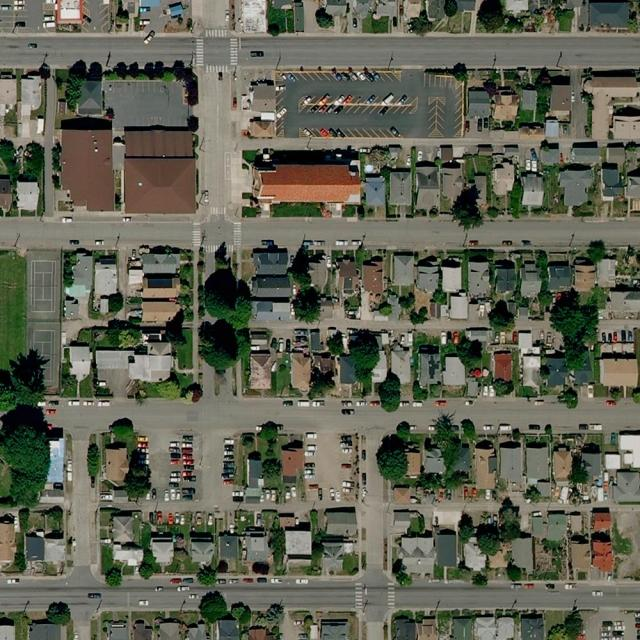building: (123, 126, 197, 214), (93, 339, 178, 399), (61, 116, 114, 212), (259, 165, 361, 204), (584, 76, 640, 140), (518, 328, 568, 393), (251, 245, 292, 321), (372, 331, 413, 384), (419, 345, 466, 386), (291, 329, 335, 372), (112, 515, 144, 566), (0, 175, 40, 214), (399, 536, 436, 576), (249, 330, 273, 390), (577, 440, 610, 479), (548, 74, 574, 121), (416, 161, 440, 211), (25, 532, 65, 562), (475, 440, 498, 489), (460, 535, 489, 573), (589, 1, 629, 28), (600, 359, 638, 387), (324, 506, 358, 537), (499, 441, 523, 484), (142, 273, 180, 300), (441, 160, 464, 204), (467, 255, 490, 298), (249, 78, 277, 113), (492, 89, 520, 124), (17, 102, 44, 138), (612, 105, 640, 139), (518, 259, 542, 298), (510, 535, 534, 574), (245, 526, 270, 563), (285, 522, 312, 556), (142, 299, 180, 323), (77, 81, 103, 116), (104, 447, 129, 483), (361, 256, 384, 295), (321, 537, 344, 576), (94, 262, 119, 297), (307, 253, 330, 291), (290, 352, 311, 393), (436, 529, 458, 567), (547, 260, 573, 292), (47, 437, 65, 483), (526, 444, 549, 480), (72, 252, 93, 291), (141, 253, 180, 274), (190, 531, 214, 565), (389, 169, 411, 206), (552, 444, 574, 481), (492, 161, 515, 196), (521, 172, 544, 207), (601, 162, 623, 198), (152, 532, 174, 568), (0, 514, 16, 563), (282, 449, 305, 483), (418, 256, 439, 293), (69, 345, 90, 381), (441, 257, 462, 293), (574, 258, 596, 292), (21, 75, 42, 110), (546, 354, 568, 387), (392, 254, 414, 286), (495, 260, 516, 293), (365, 175, 386, 207), (467, 89, 489, 118), (571, 141, 599, 163), (246, 451, 263, 487), (521, 614, 545, 639), (546, 511, 566, 541), (423, 447, 445, 474), (596, 259, 616, 288), (29, 622, 61, 640), (394, 508, 420, 530), (492, 351, 511, 381), (592, 552, 616, 575), (575, 352, 592, 384), (219, 534, 239, 561), (416, 615, 438, 639), (249, 117, 275, 137), (540, 140, 560, 166), (394, 617, 416, 640), (474, 616, 496, 639), (0, 78, 18, 106), (464, 327, 493, 344), (452, 616, 473, 639), (339, 356, 356, 384), (592, 508, 612, 531), (450, 295, 469, 319), (496, 616, 515, 639), (521, 87, 539, 111), (406, 449, 421, 477), (473, 175, 486, 206), (375, 0, 398, 17), (326, 0, 348, 17), (394, 484, 412, 504), (134, 619, 152, 639), (569, 510, 584, 534), (438, 143, 455, 163), (531, 511, 544, 537), (294, 1, 304, 32), (604, 452, 621, 470), (592, 541, 613, 555), (545, 118, 559, 138), (466, 377, 480, 397), (456, 0, 476, 12), (503, 144, 519, 158), (477, 144, 494, 156), (565, 1, 584, 9)
greenland: (0, 350, 50, 506), (542, 284, 614, 373), (108, 413, 161, 502), (468, 496, 533, 563), (197, 588, 287, 634), (102, 50, 198, 90), (0, 251, 26, 368), (287, 244, 322, 324), (448, 184, 487, 247), (346, 328, 383, 394), (225, 279, 255, 359), (199, 319, 238, 372), (0, 139, 44, 182), (203, 267, 238, 319), (257, 421, 282, 489), (543, 606, 592, 640), (375, 433, 408, 483), (432, 413, 463, 466), (60, 58, 89, 110), (481, 297, 518, 336), (376, 371, 402, 413), (455, 336, 483, 370), (45, 599, 72, 627), (214, 242, 232, 269), (554, 8, 574, 32), (315, 6, 334, 30), (86, 62, 98, 80)
metalled_road: (193, 37, 243, 216), (242, 218, 462, 249), (0, 217, 193, 250), (216, 575, 355, 611), (68, 439, 100, 586), (360, 428, 390, 574), (355, 575, 396, 639), (191, 0, 234, 37), (202, 35, 240, 70), (82, 0, 112, 33), (202, 218, 234, 246), (74, 615, 91, 639)
